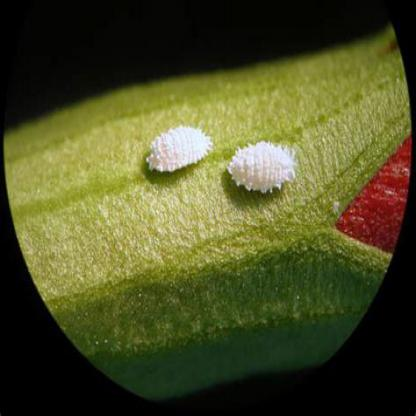mealy bug: (224, 143, 297, 190), (145, 124, 212, 171)
